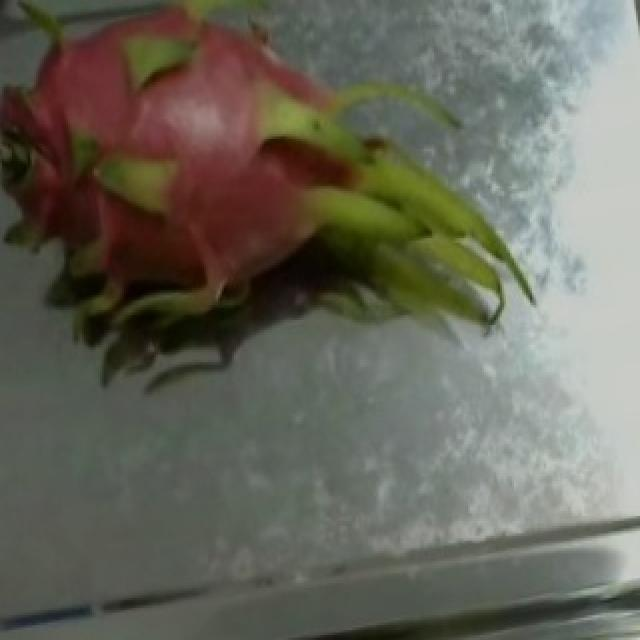fruit: (2, 0, 416, 422)
